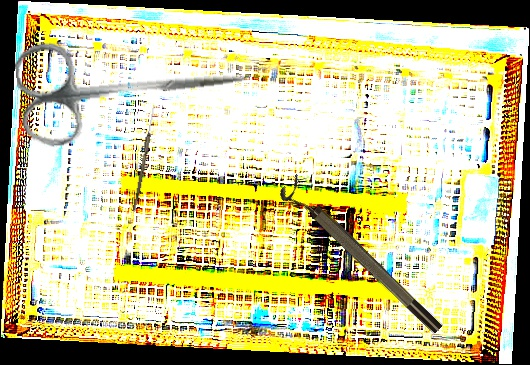Fixation Ring: (276, 174, 446, 343)
Iris Scissors: (13, 22, 252, 151)
Surgical Spoon: (132, 106, 156, 213)
